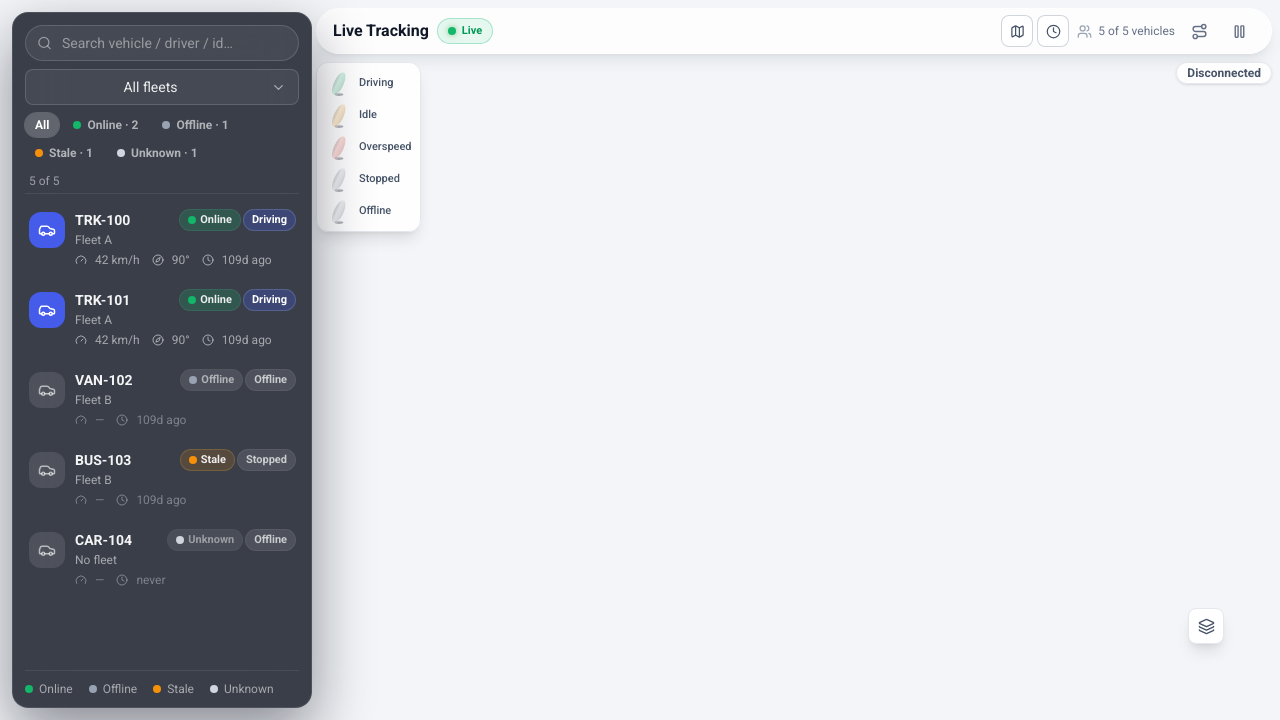
Test: MapPage (Live Tracking) › filters the list by fleet (§20)
This screenshot has width=1280, height=720.
Expected: the text "TRK-100" is shown, top-left (75, 210), bottom-right (130, 230)
Click the dropdown at point(162, 87), box top-left (25, 69), bottom-right (299, 105)
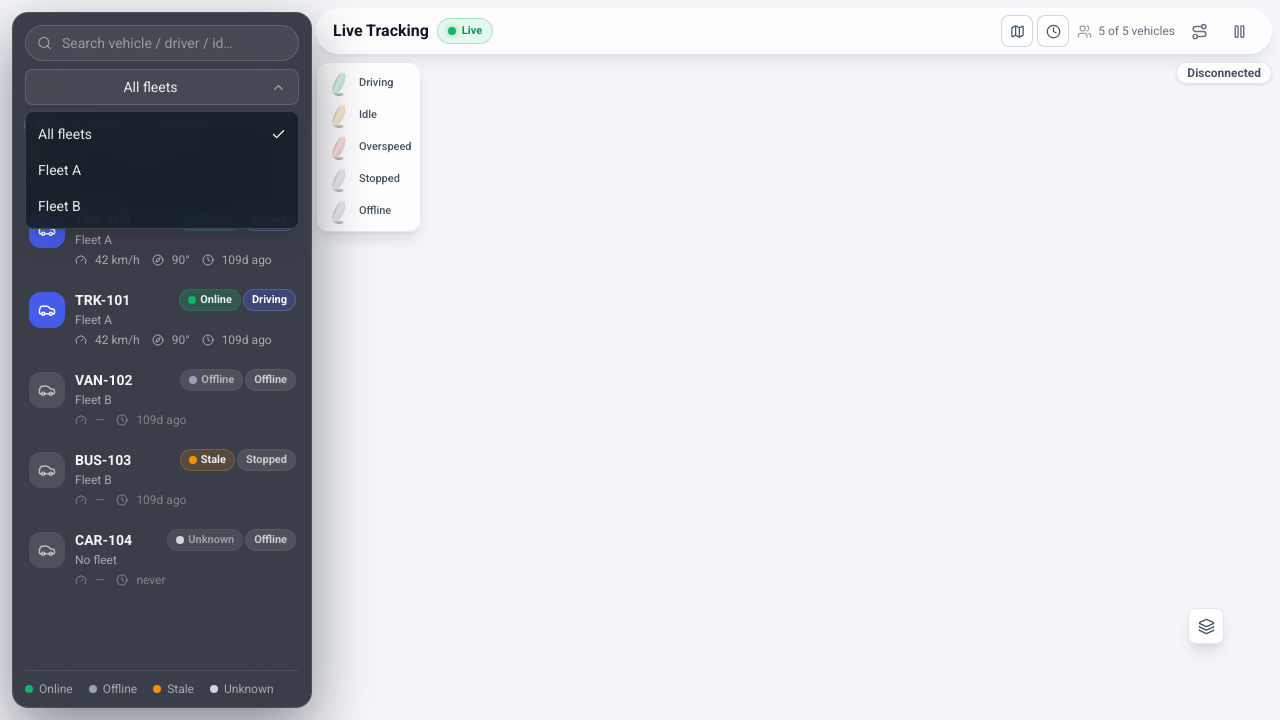
Click the option "Fleet A" at point(60, 170), box top-left (38, 162), bottom-right (81, 178)
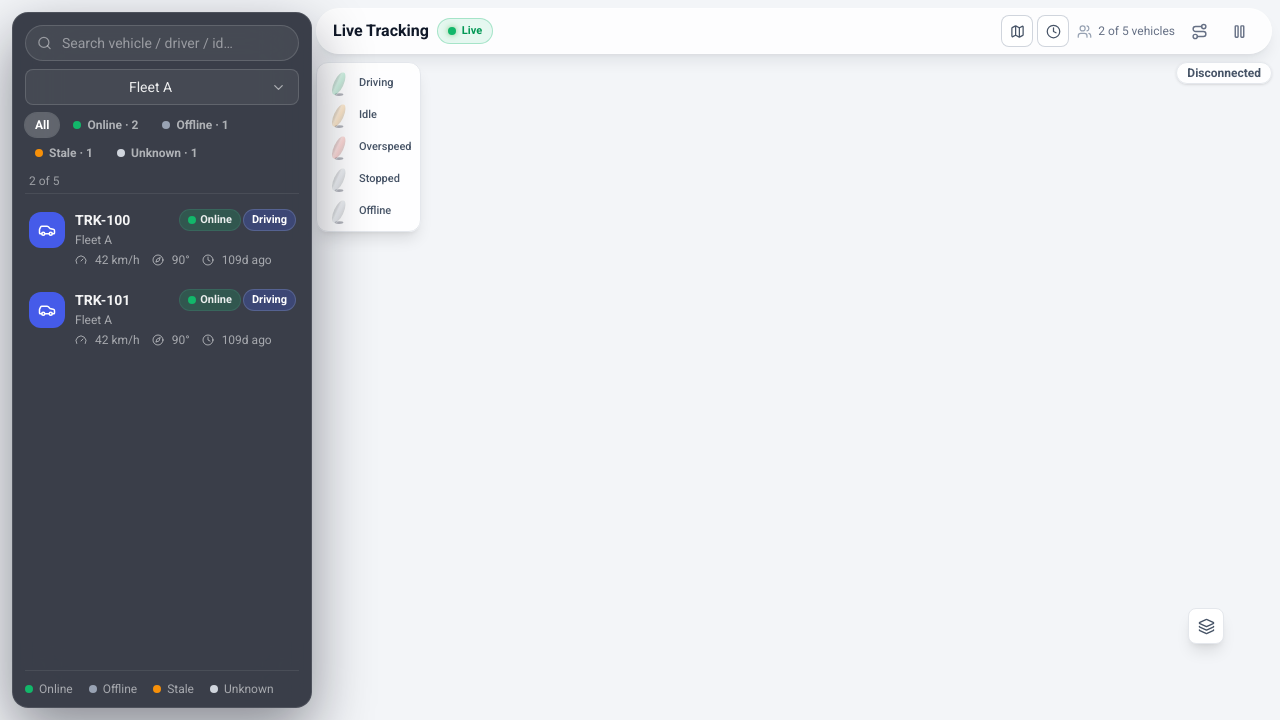
Expected: the text "TRK-100" is shown, top-left (75, 210), bottom-right (130, 230)
Result: the button "VAN-102" is gone
